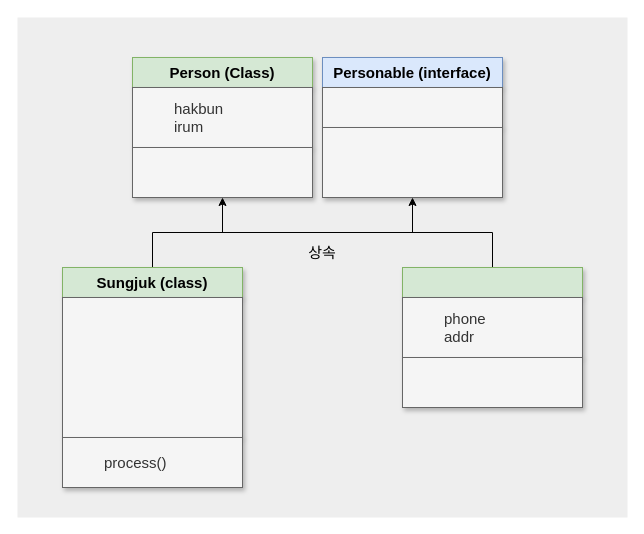
Some shapes in this 644 by 534 pixel diagram are drawn without their labels. Each missing label, with the centre of its shape:
"input() output()" goes at point (413, 163).
"kor eng math tot avg grade" goes at point (153, 368).
"PersonInfo (class)" goes at point (493, 283).
